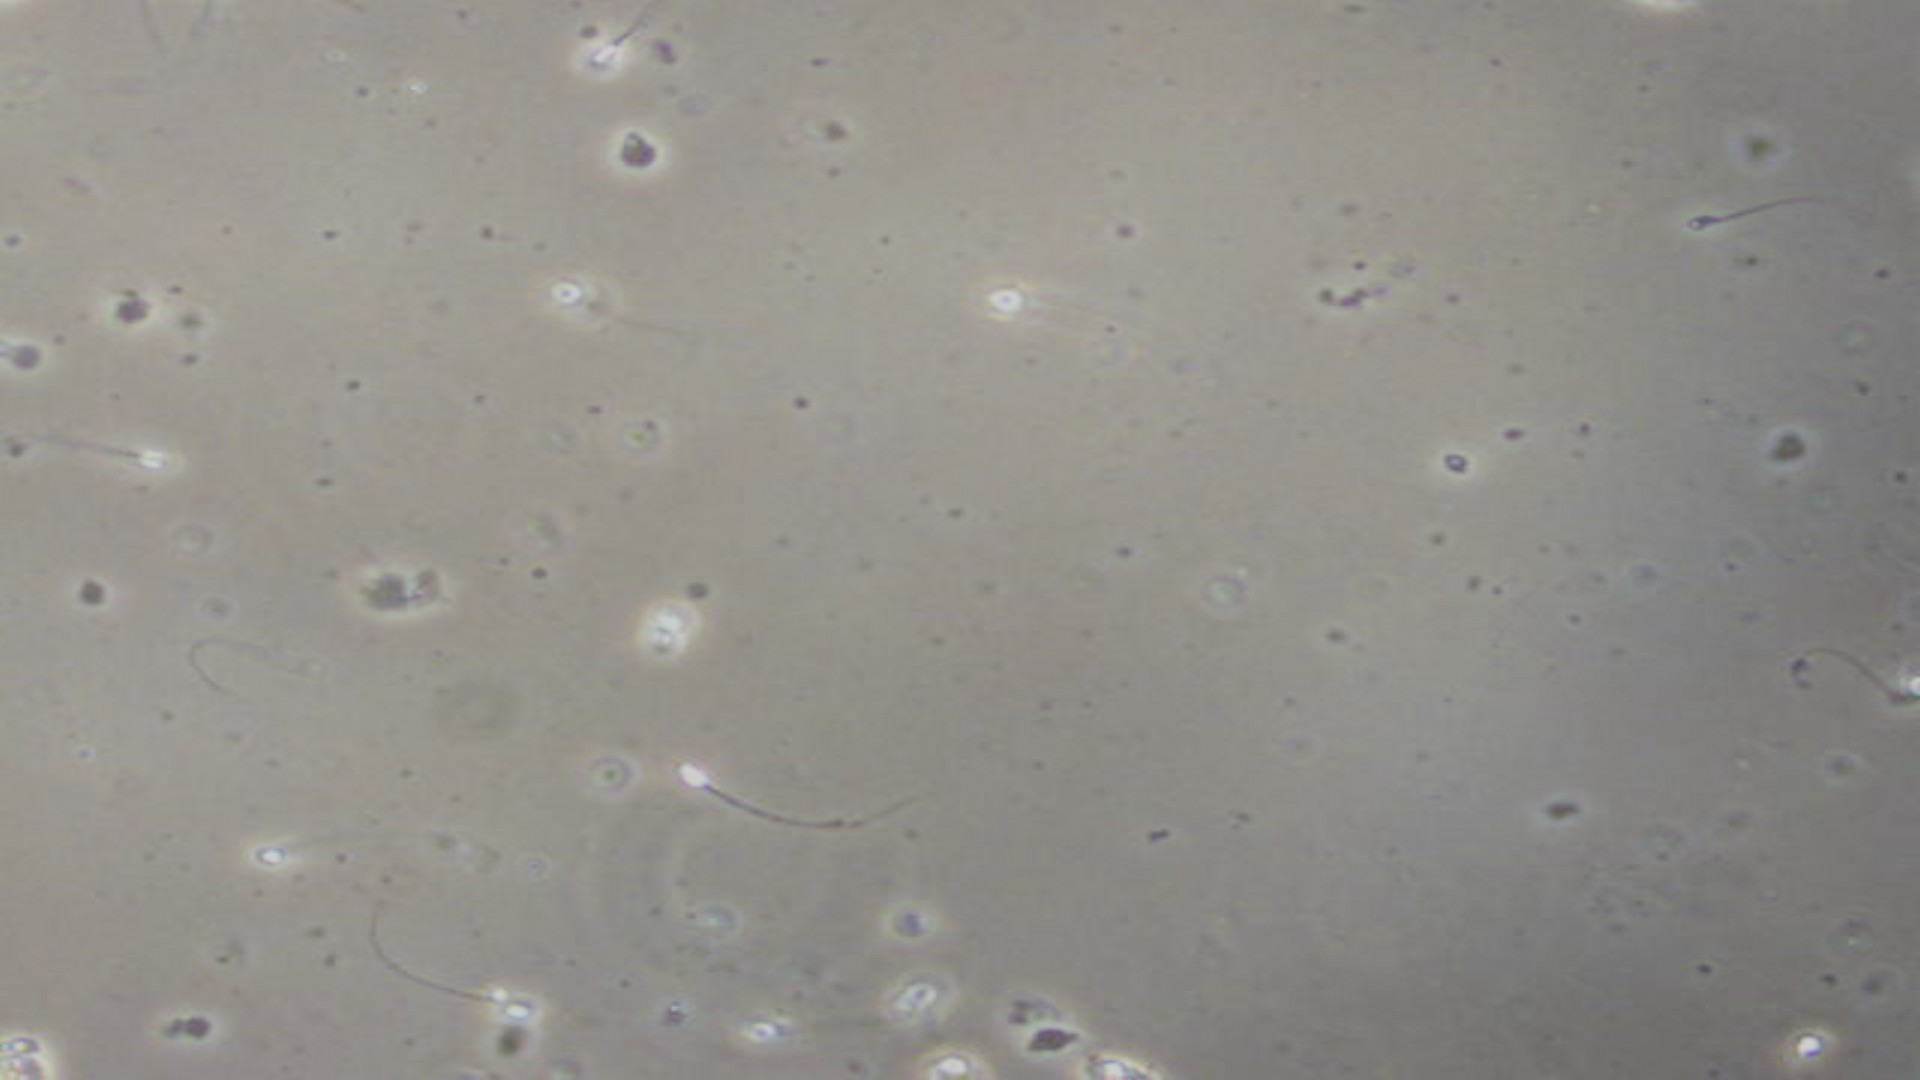sperm: (665, 754, 961, 895), (560, 9, 738, 103), (40, 427, 178, 488), (375, 945, 521, 1002)
